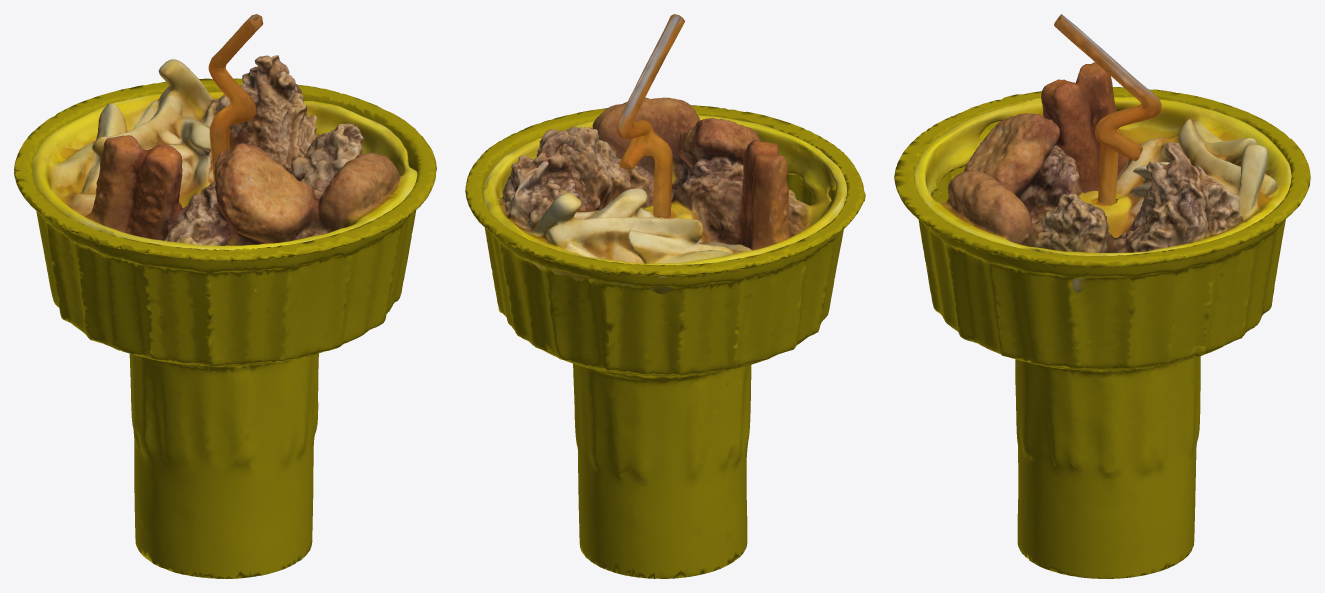
File: combo2.glb
3 views of the same model, side by side, from view 1: azimuth 30°, elevation 25°; view 2: azimuth 150°, elevation 25°; view 3: azimuth 270°, elevation 25° (orthographic). The views are drawn at different scales.
Visible parts, largest first — view 1: model.002, 3DModel.001, model.001; view 2: model.002, 3DModel.001, model.001; view 3: model.002, 3DModel.001, model.001.
Part boxes in pixels (x1,y1,x2,y2): model.002: [14, 78, 436, 578]; 3DModel.001: [32, 55, 417, 250]; model.001: [208, 14, 263, 181]; model.002: [465, 105, 865, 578]; 3DModel.001: [483, 97, 846, 294]; model.001: [616, 14, 684, 218]; model.002: [894, 87, 1310, 578]; 3DModel.001: [914, 62, 1291, 292]; model.001: [1054, 14, 1161, 205].
Size of the model in its own units: 0.1896 by 0.2679 by 0.1898.
Materials: 3 (2 with a texture image).
